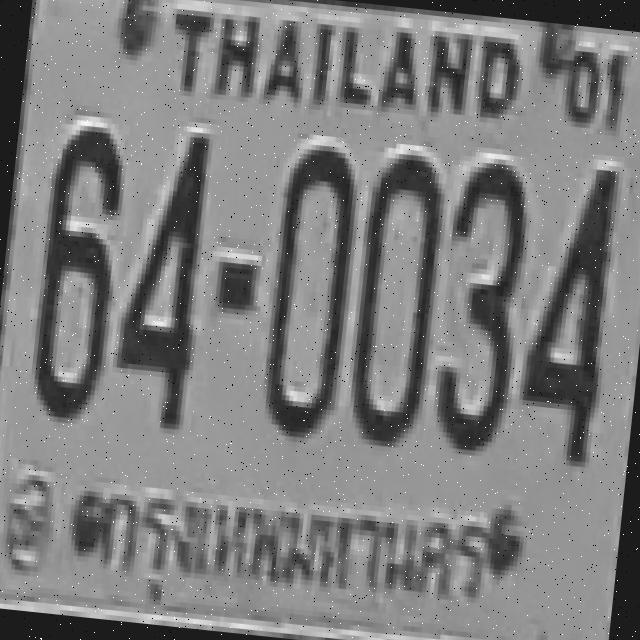0: (256, 140, 362, 438), (342, 148, 444, 446)
3: (426, 154, 532, 453)
4: (106, 124, 214, 428), (513, 158, 620, 462)
6: (22, 122, 126, 420)
Bangkok: (86, 453, 499, 626)
